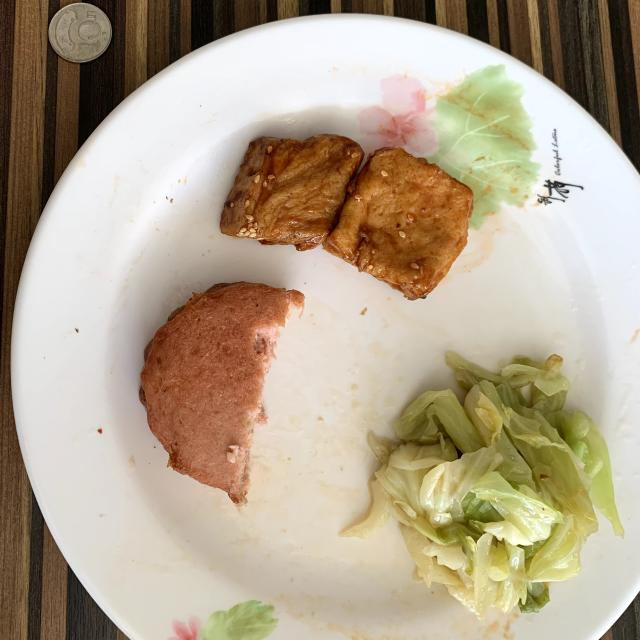Spam: (140, 282, 304, 505)
cabbage: (342, 352, 624, 619)
coin: (49, 2, 112, 62)
creamy tofu: (220, 135, 472, 299)
